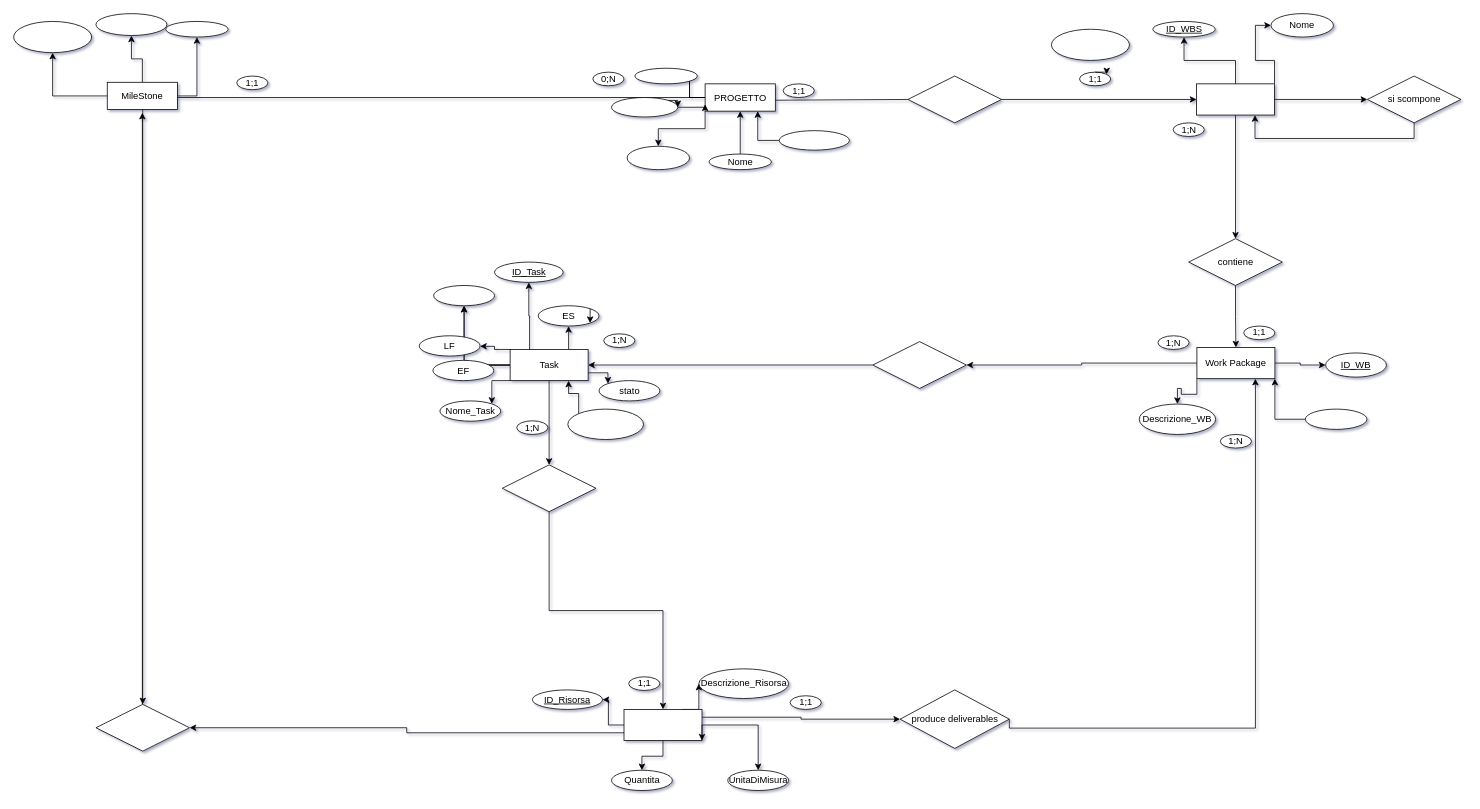
The diagram is 1480 pixels wide and 809 high, and some of its shapes have lost their labels. Each missing label, with the centre of its shape:
"appartiene" belongs at (x=919, y=364).
"Attribute" belongs at (x=1090, y=44).
"Data_Fine" belongs at (x=665, y=75).
"Data_Inizio" belongs at (x=644, y=107).
"deliverables necessari" belongs at (x=142, y=727).
"Descrizione" belongs at (x=658, y=157).
"Descrizione_Task" belongs at (x=605, y=424).
"Fine/durata" belongs at (x=196, y=29).
"ID_Milestone" belongs at (x=52, y=37).
"ID_Progetto" belongs at (x=813, y=140).
"LS" belongs at (x=464, y=295).
"necessita di" belongs at (x=549, y=488).
"Nome_Milestone" belongs at (x=131, y=24).
"Nome_WB" belongs at (x=1336, y=418).
"POSSIEDE" belongs at (x=954, y=99).
"risorse" belongs at (x=662, y=725).
"WBS" belongs at (x=1235, y=99).
